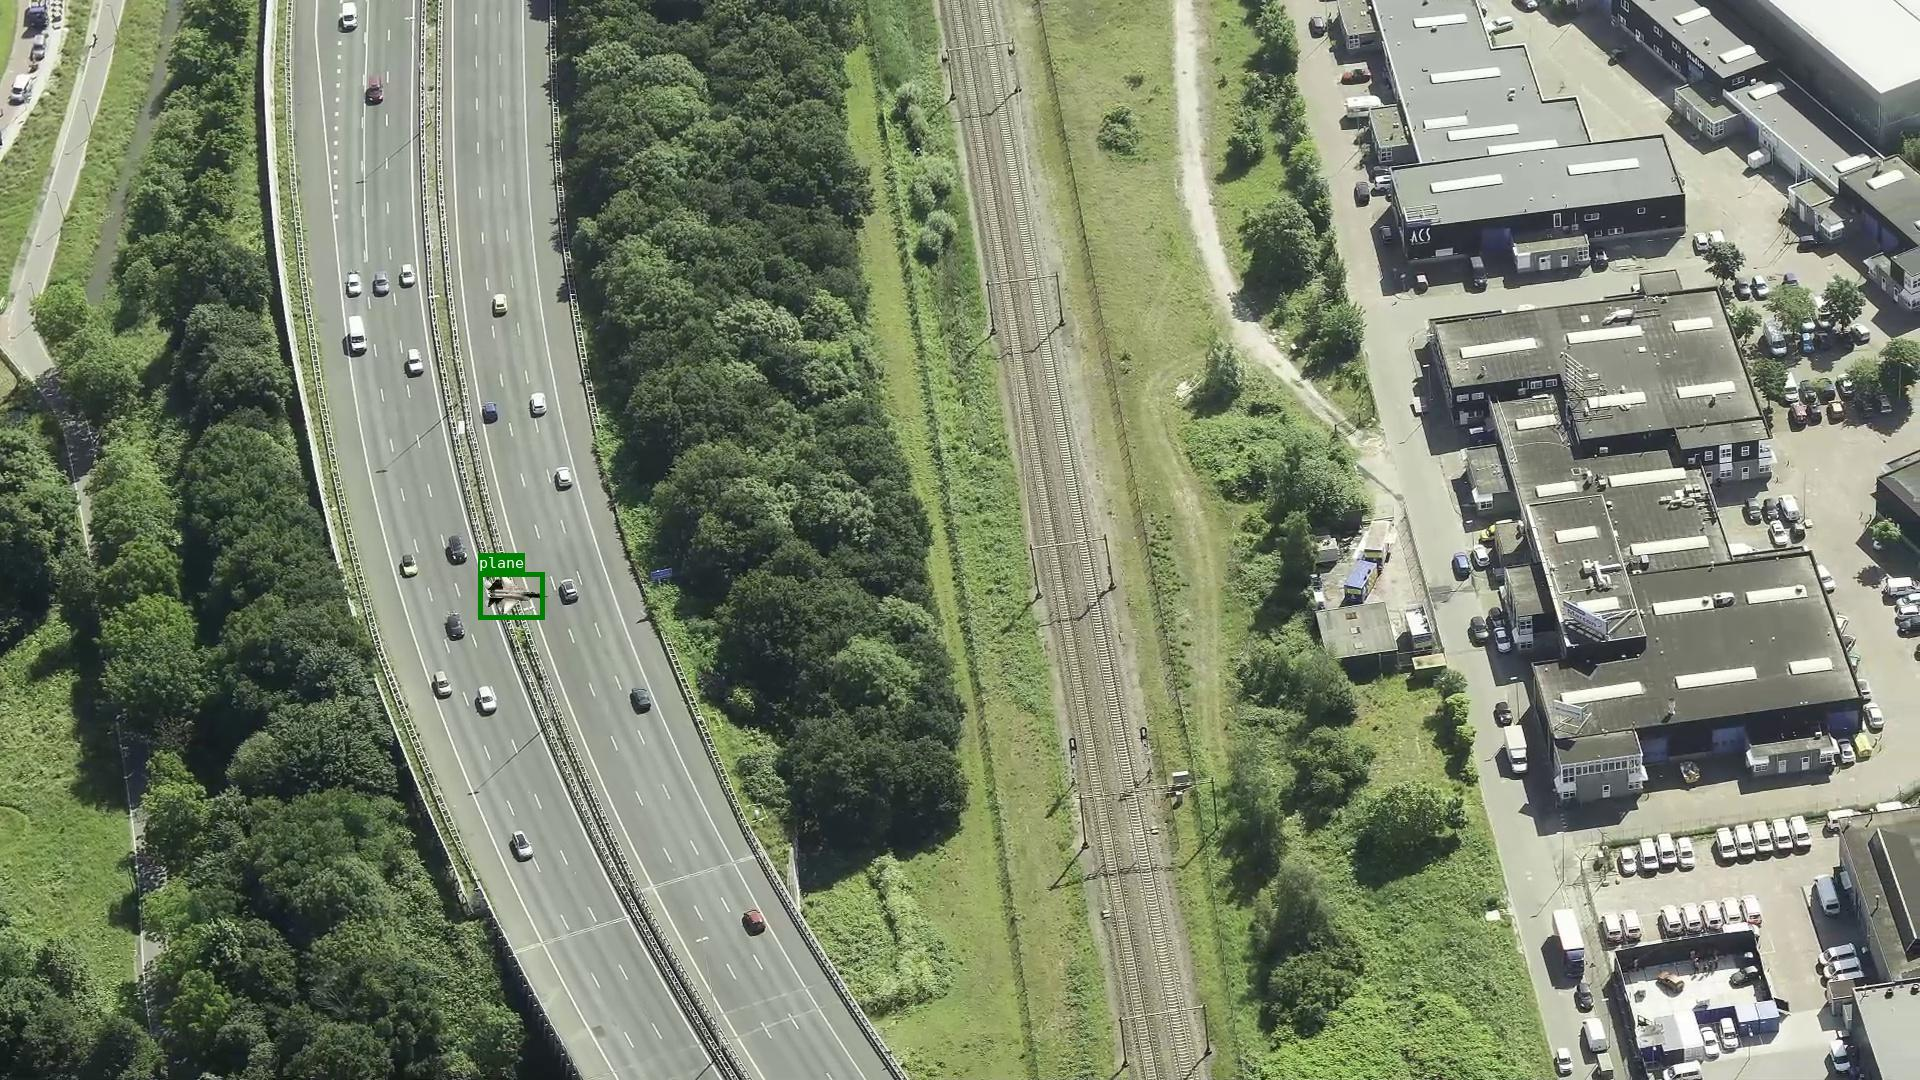plane: (477, 572, 545, 618)
